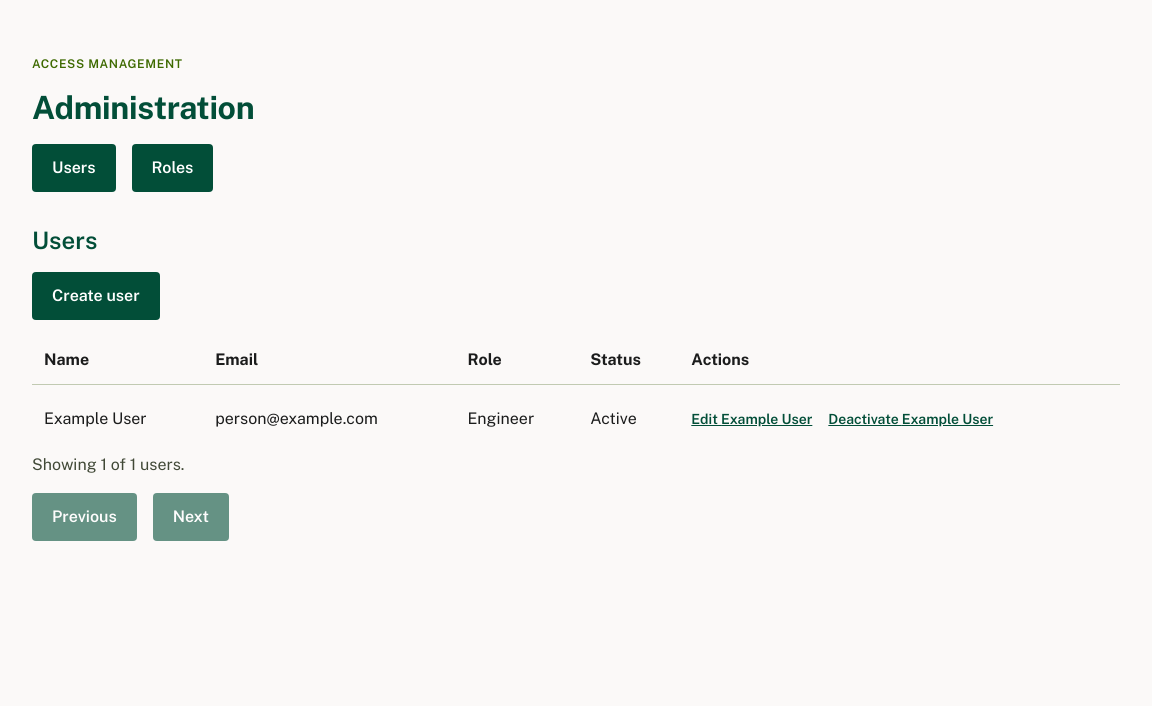
Test: creates a user with assigned portfolio and displays success
Click the button "Create user": [96, 296] box x1=32 y1=272 x2=160 y2=320
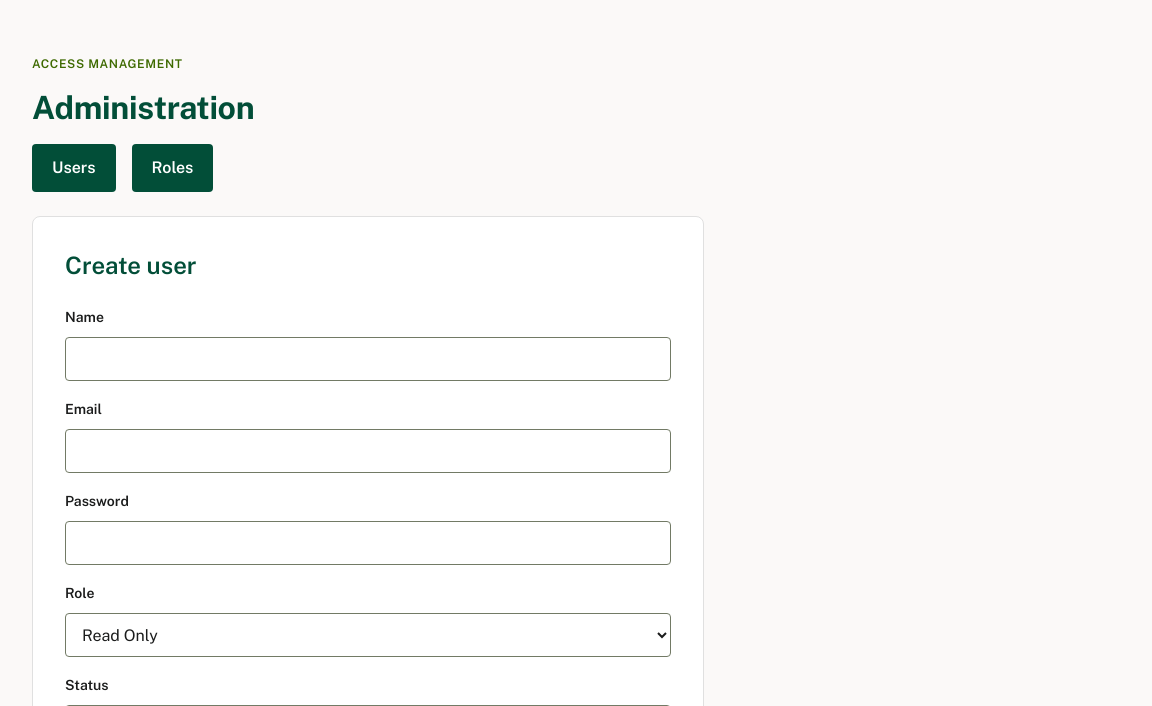
In the field labelled "Name": [368, 359] box x1=65 y1=337 x2=671 y2=381, type "New Person"
In the field labelled "Email": [368, 451] box x1=65 y1=429 x2=671 y2=473, type "new@example.com"
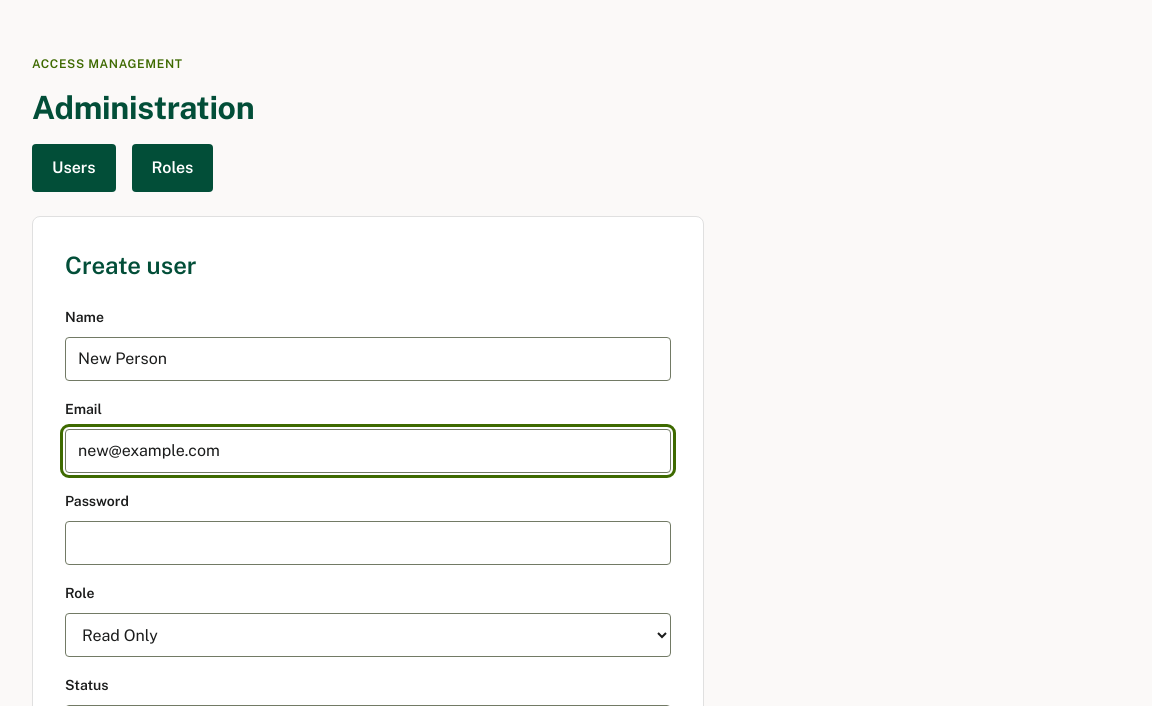
In the password field labelled "Password": [368, 543] box x1=65 y1=521 x2=671 y2=565, type "StrongPassword123!"
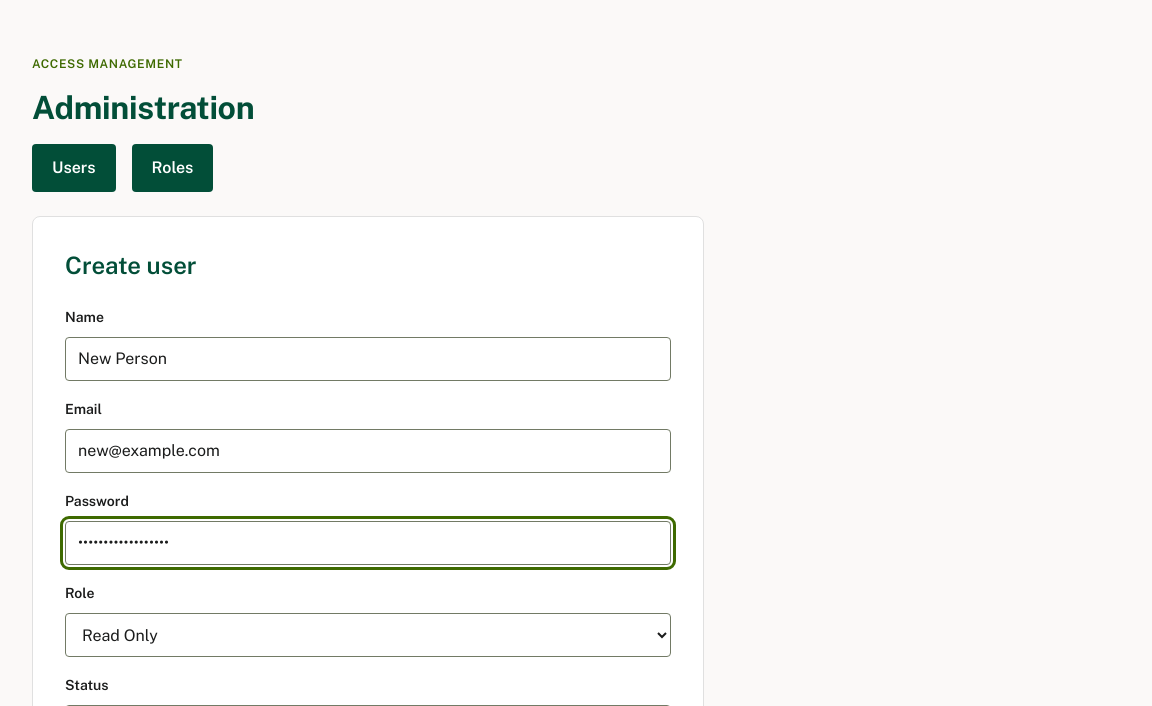
Select "Portfolio Leader" in the dropdown labelled "Role": [368, 635] box x1=65 y1=613 x2=671 y2=657
(page scrolled)
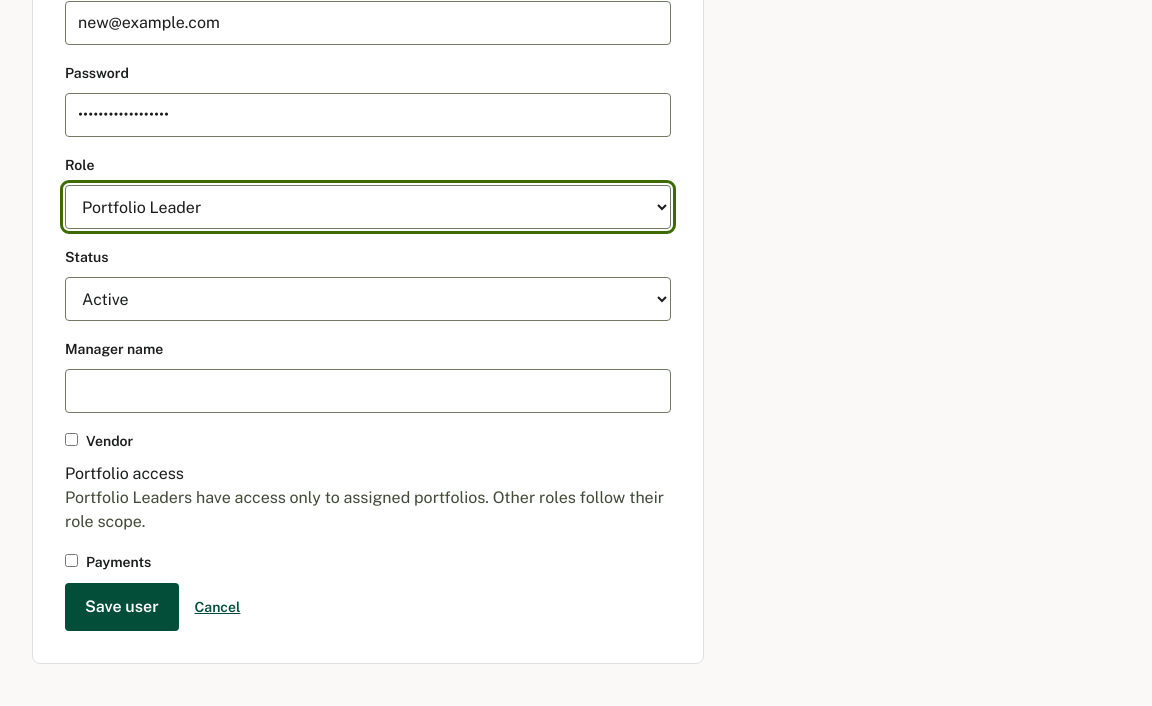
Click the checkbox labelled "Payments": [72, 560] box x1=65 y1=554 x2=78 y2=567
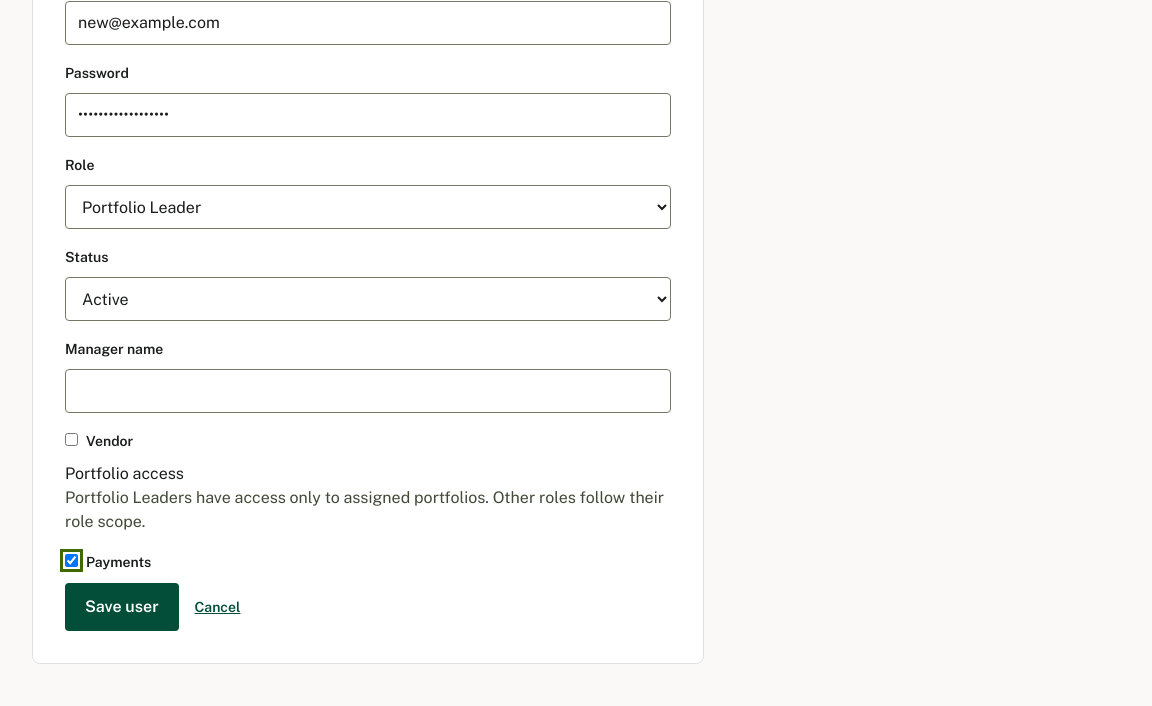
Click the button "Save user": [122, 607] box x1=65 y1=583 x2=179 y2=631
(page scrolled)
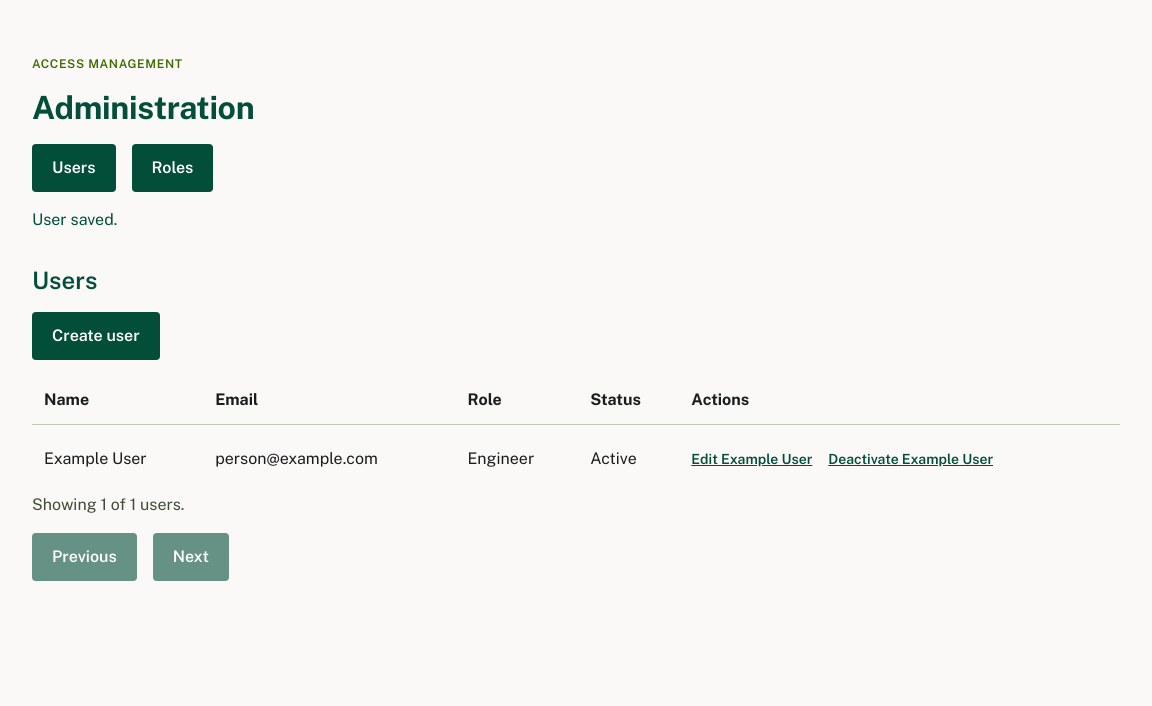
Result: the text "User saved." is shown at x1=32 y1=210 x2=117 y2=229
